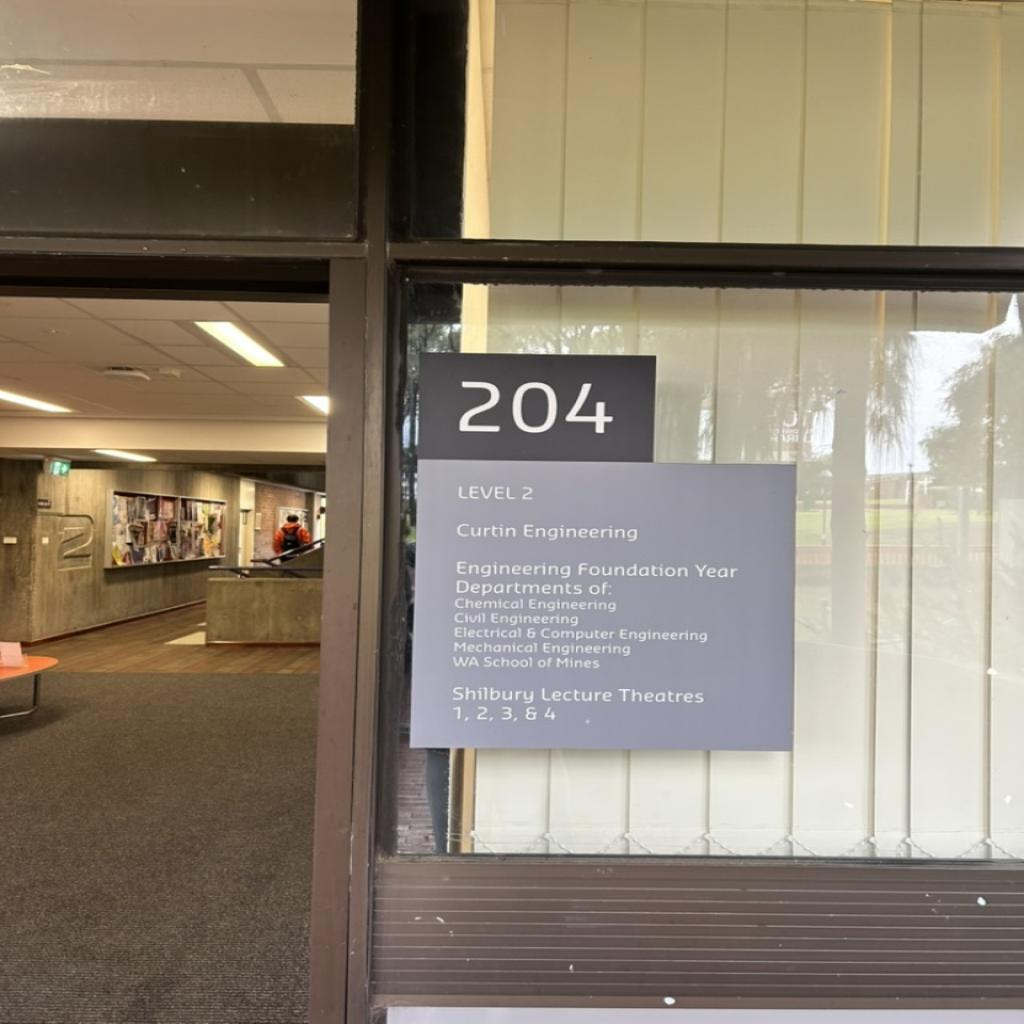BuildingCodes: (454, 370, 620, 446)
